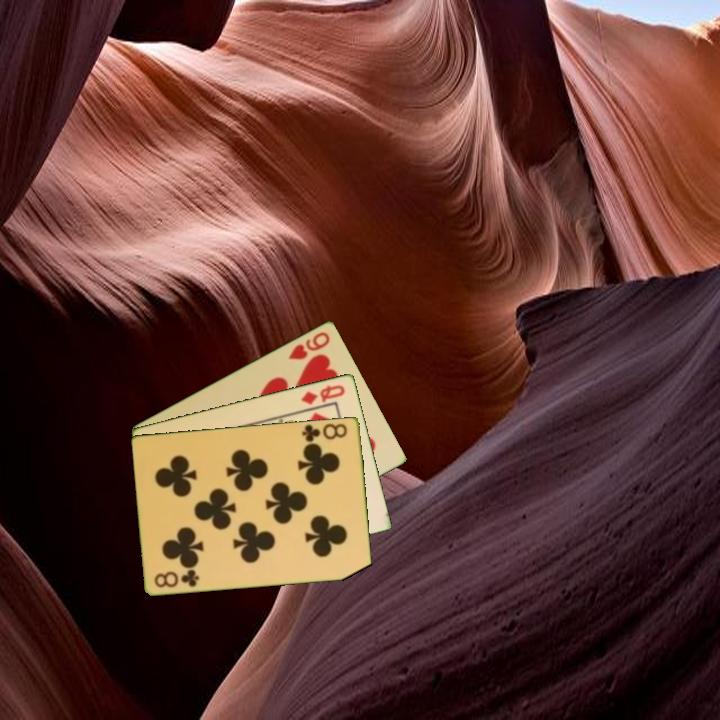8c: (298, 419, 350, 447), (151, 566, 202, 590)
9h: (285, 328, 333, 362)
Qd: (297, 381, 348, 407)
